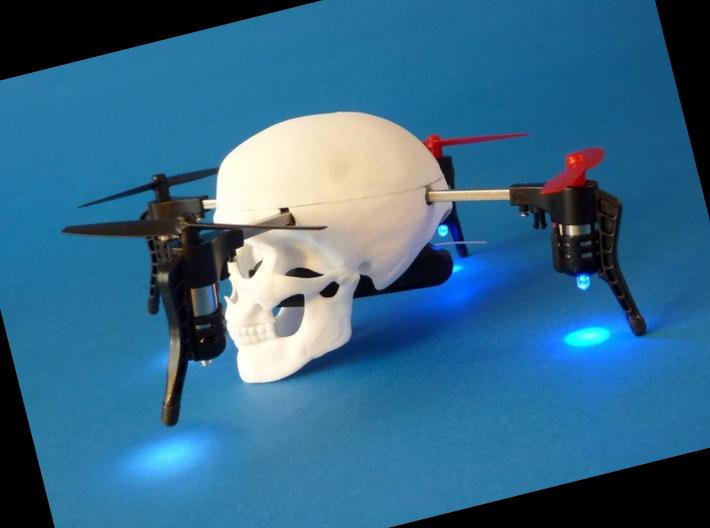drone: (40, 32, 707, 490)
